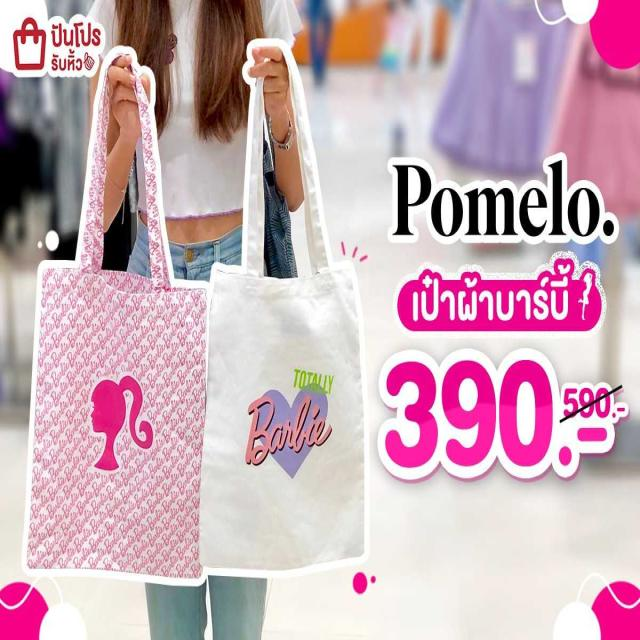Handbag: (25, 54, 211, 588)
